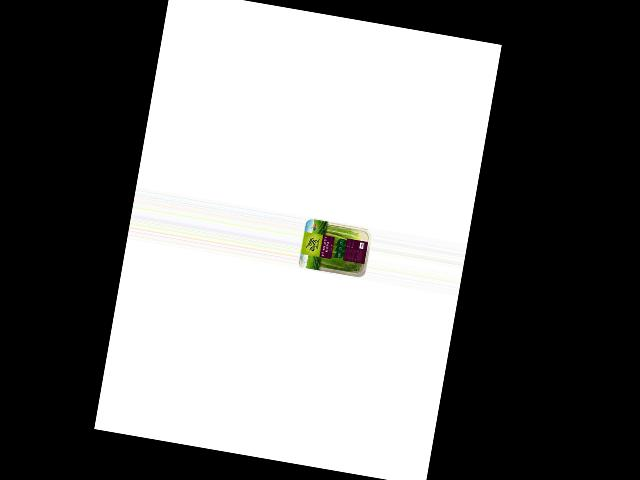lettuce: (302, 217, 373, 278)
